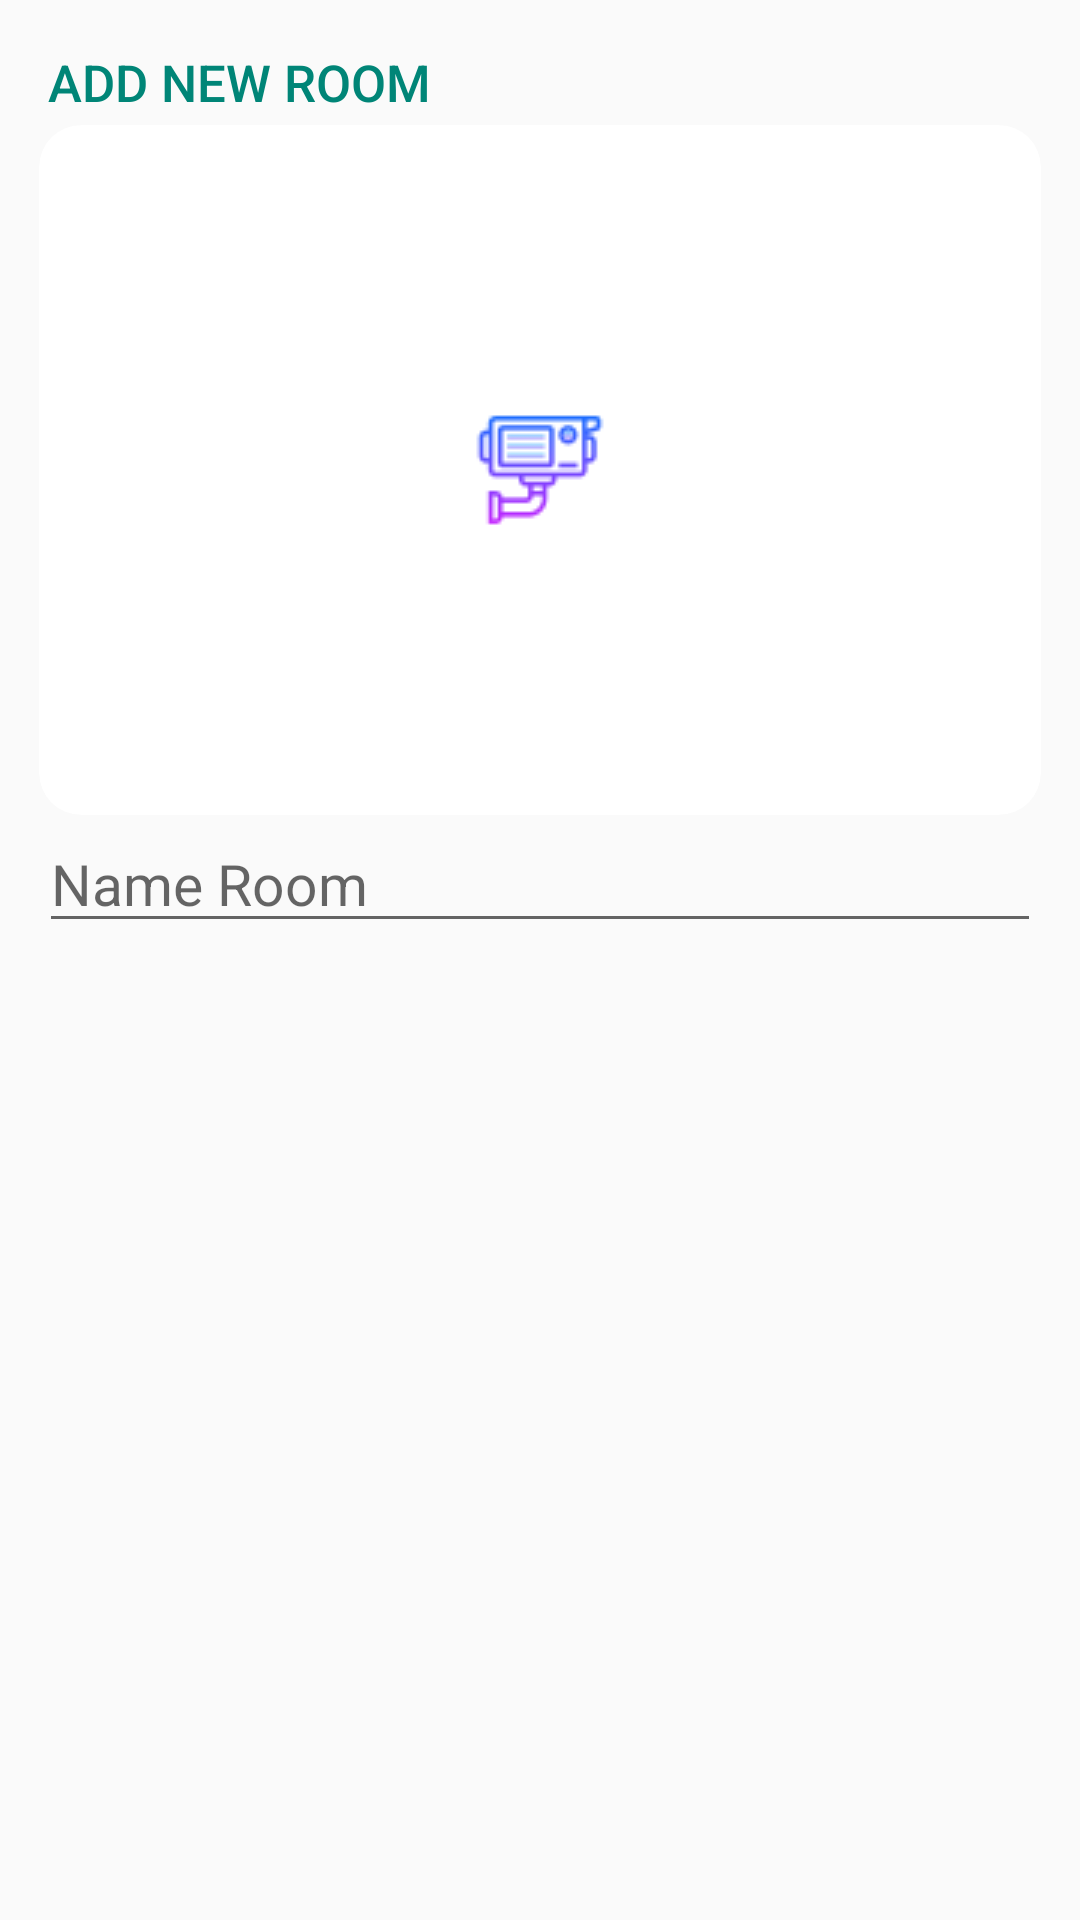

Named icons in this screenshot (1080*1920) and their bounding boxes, (x1, y1, x2, y2):
camer: (477, 415, 603, 525)
